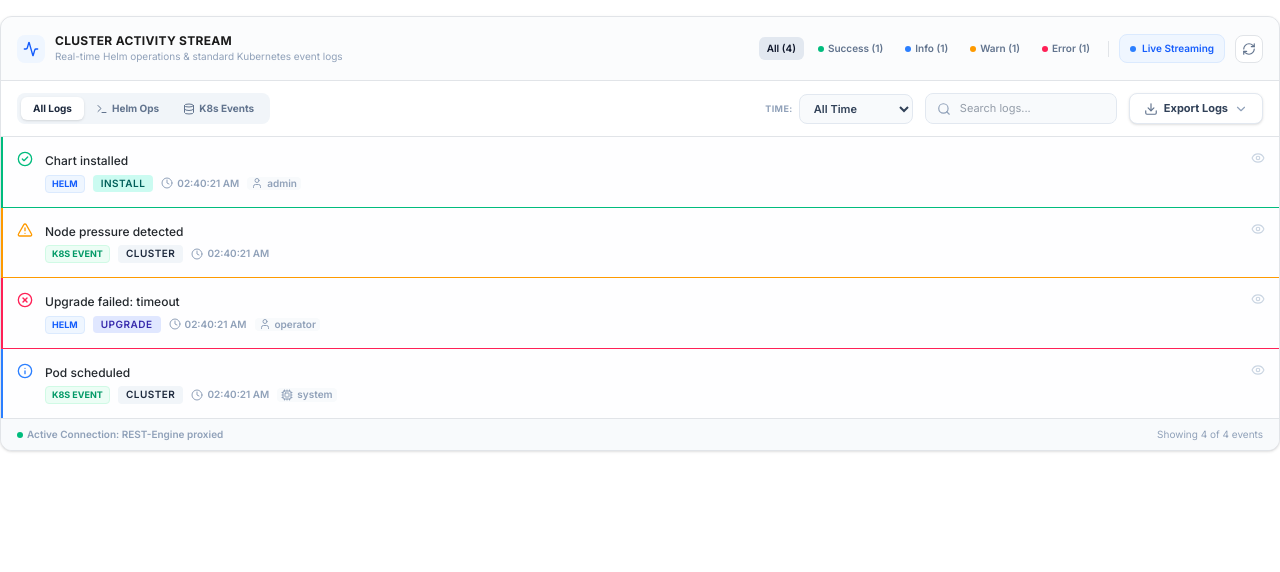
ActivityLog › expands a log entry to show full trace payload when clicked
Expected: the text "Chart installed" is shown, x1=45 y1=153 x2=128 y2=168
What coordinates should you click on to do the following:
click the text "Chart installed"
I would click on:
 (87, 160)
Its box is x1=17 y1=151 x2=1265 y2=192.
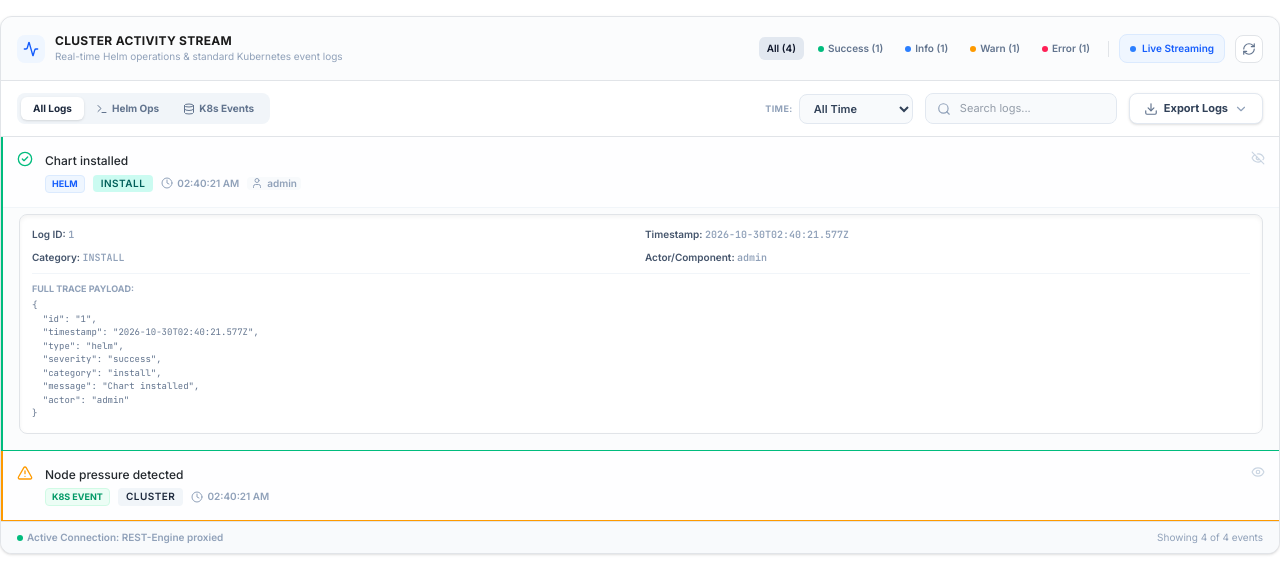
Expected: the text "Full Trace Payload:" is shown, x1=32 y1=282 x2=134 y2=294
Expected: the text "1" is shown, x1=68 y1=228 x2=74 y2=240
